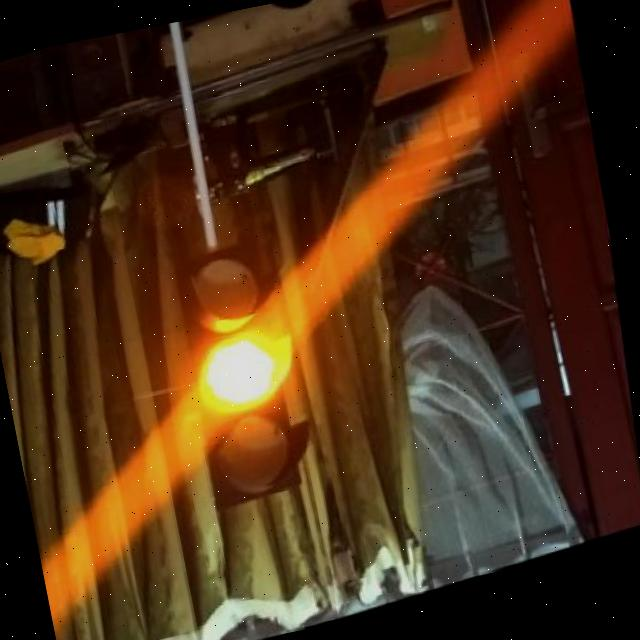yellow_light: (168, 238, 340, 516)
